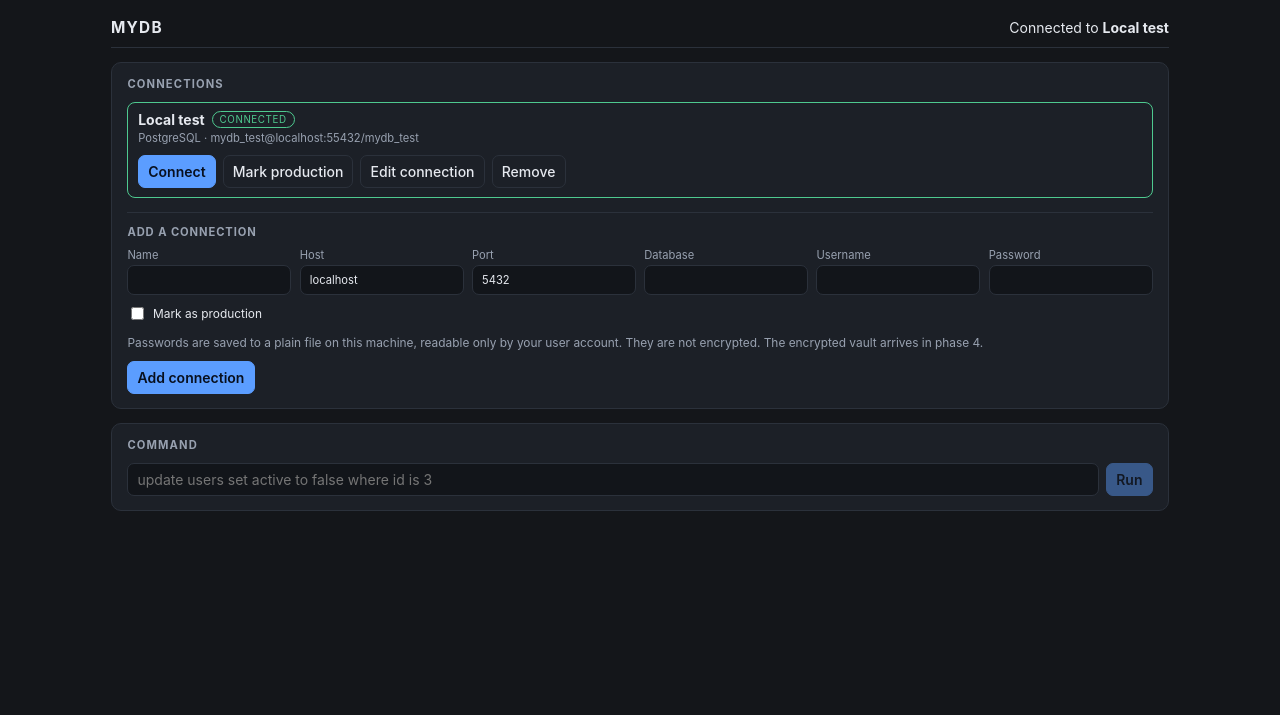
Test: the confirmation loop › shows what a delete would affect, in plain language, before anything runs
Expected: the text "Connected to Local test" is shown, left=1009, top=18, right=1169, bottom=36
Type "delete users where active is false" into the field named "Command".
click(613, 479); type("delete users where active is false")  # box left=127, top=463, right=1099, bottom=496
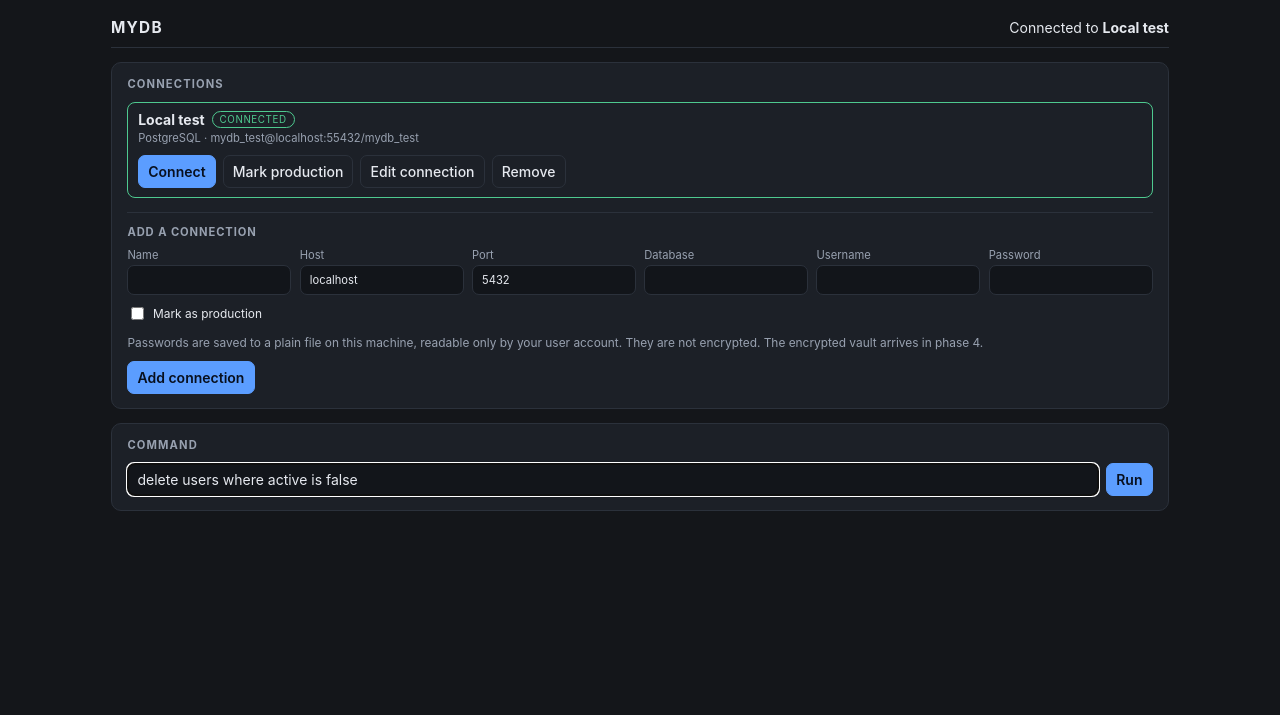
Click the button "Run".
click(1129, 479)  # box left=1106, top=463, right=1153, bottom=496
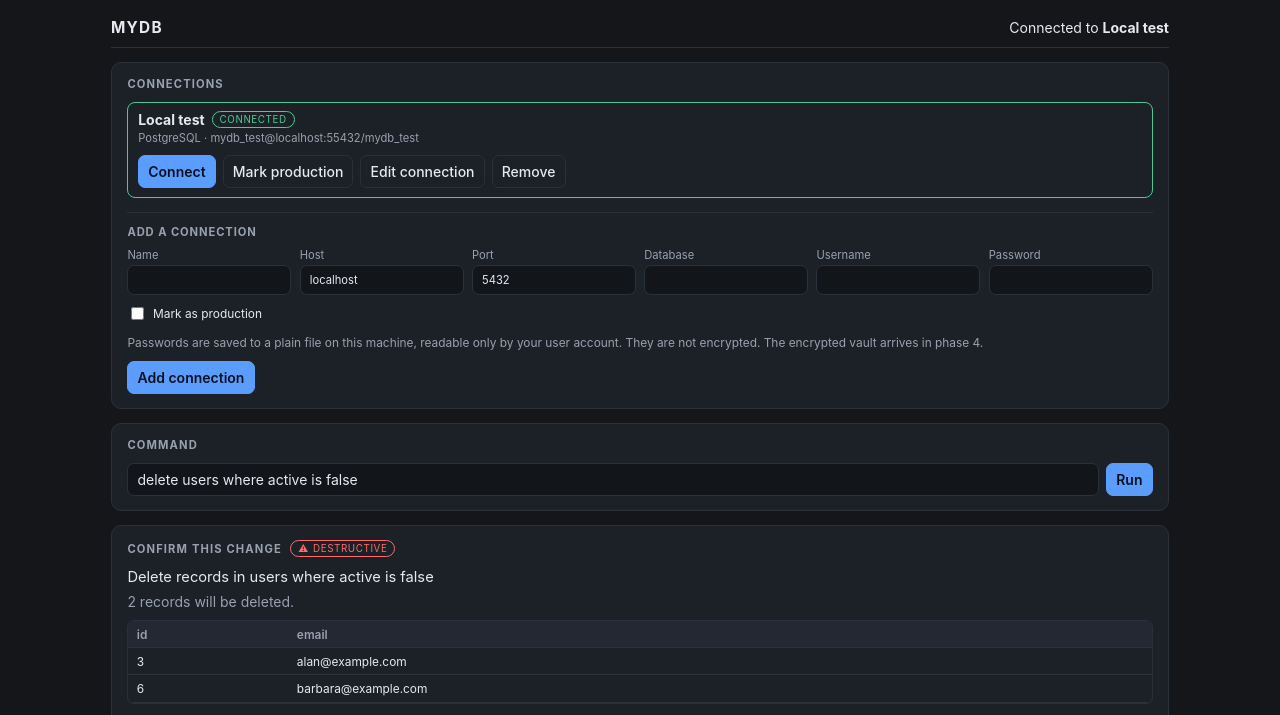
Result: the text "Delete records in users where active is false" is shown at left=127, top=568, right=434, bottom=586
Result: the text "2 records will be deleted." is shown at left=127, top=593, right=294, bottom=610
Result: the text "alan@example.com" is shown at left=288, top=648, right=1152, bottom=675
